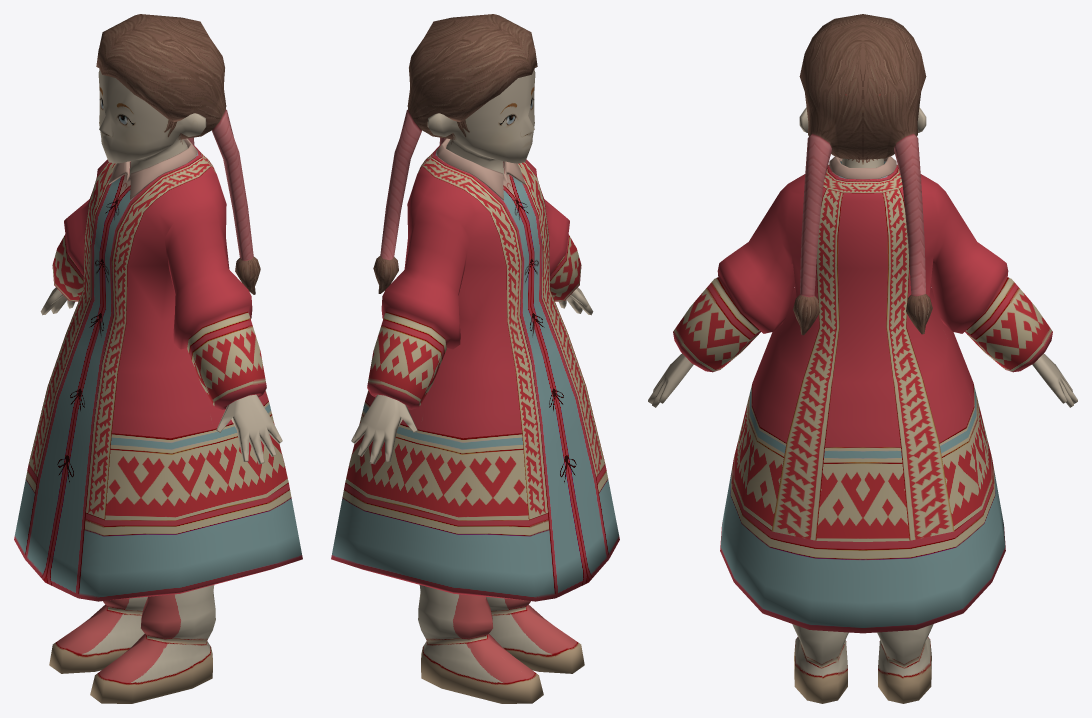
File: Tatya.fbx
3 renders of one model, left to right at view 1: azimuth 30°, elevation 25°; view 2: azimuth 150°, elevation 25°; view 3: azimuth 270°, elevation 25°, orthographic. The views are drawn at different scales.
Visible parts, largest first — view 1: Cube.001; view 2: Cube.001; view 3: Cube.001.
Boxes of the visible parts, <box> form: Cube.001: <box>14,14,302,703</box>; Cube.001: <box>331,14,619,703</box>; Cube.001: <box>648,14,1077,703</box>.
Size of the model in its own units: 58.02 by 154 by 90.46.
Materials: 1 (1 with a texture image).
